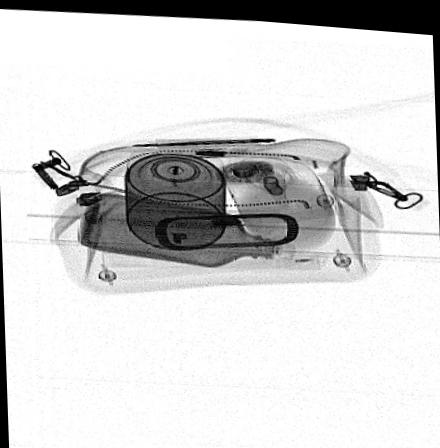Sprayer: (123, 139, 226, 246)
